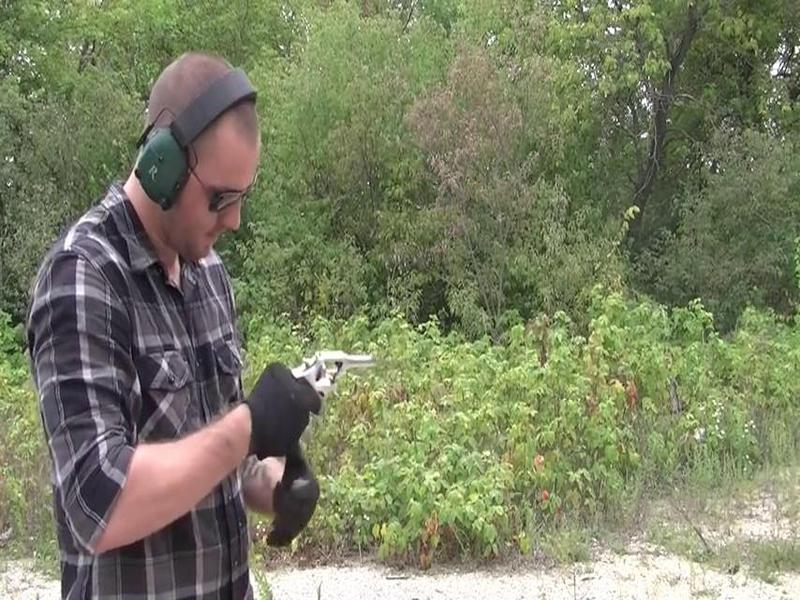Revolver: (270, 334, 389, 421)
